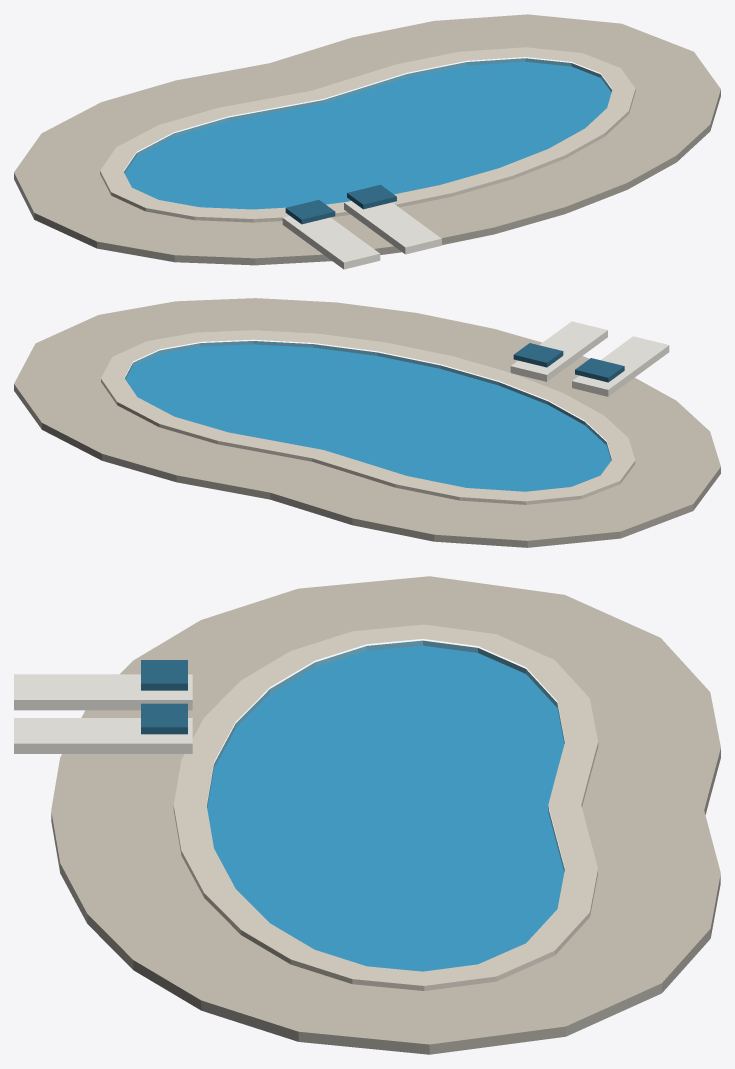
The model's file is piscine_haricot.glb.
3 views of the same model, one above another, from view 1: azimuth 30°, elevation 25°; view 2: azimuth 150°, elevation 25°; view 3: azimuth 270°, elevation 25° (orthographic). The views are drawn at different scales.
Parts seen in each view (by area): view 1: piscine_haricot; view 2: piscine_haricot; view 3: piscine_haricot.
Boxes of the visible parts, bbox=[...] form: piscine_haricot: bbox=[14, 14, 720, 269]; piscine_haricot: bbox=[14, 298, 720, 547]; piscine_haricot: bbox=[14, 576, 720, 1054].
Size of the model in its own units: 11.79 by 0.54 by 7.52.
1 material, 1 textured.
